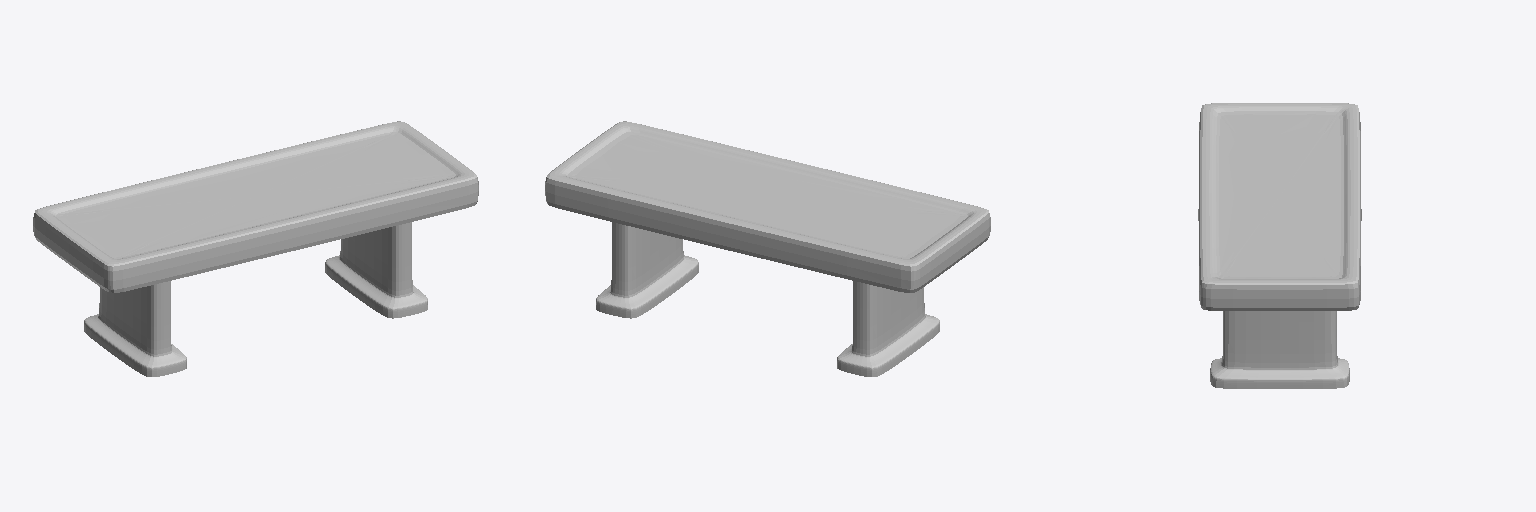
File: MorgueTable.obj
3 views of the same model, side by side, from view 1: azimuth 30°, elevation 25°; view 2: azimuth 150°, elevation 25°; view 3: azimuth 270°, elevation 25° (orthographic).
Parts seen in each view (by area): view 1: MorgueTable_Cube; view 2: MorgueTable_Cube; view 3: MorgueTable_Cube.
Part boxes in pixels (left/top/right/bottom): MorgueTable_Cube: left=33, top=121, right=478, bottom=376; MorgueTable_Cube: left=545, top=121, right=990, bottom=376; MorgueTable_Cube: left=1198, top=103, right=1361, bottom=388.
Size of the model in its own units: 2.13 by 0.688 by 0.8042.